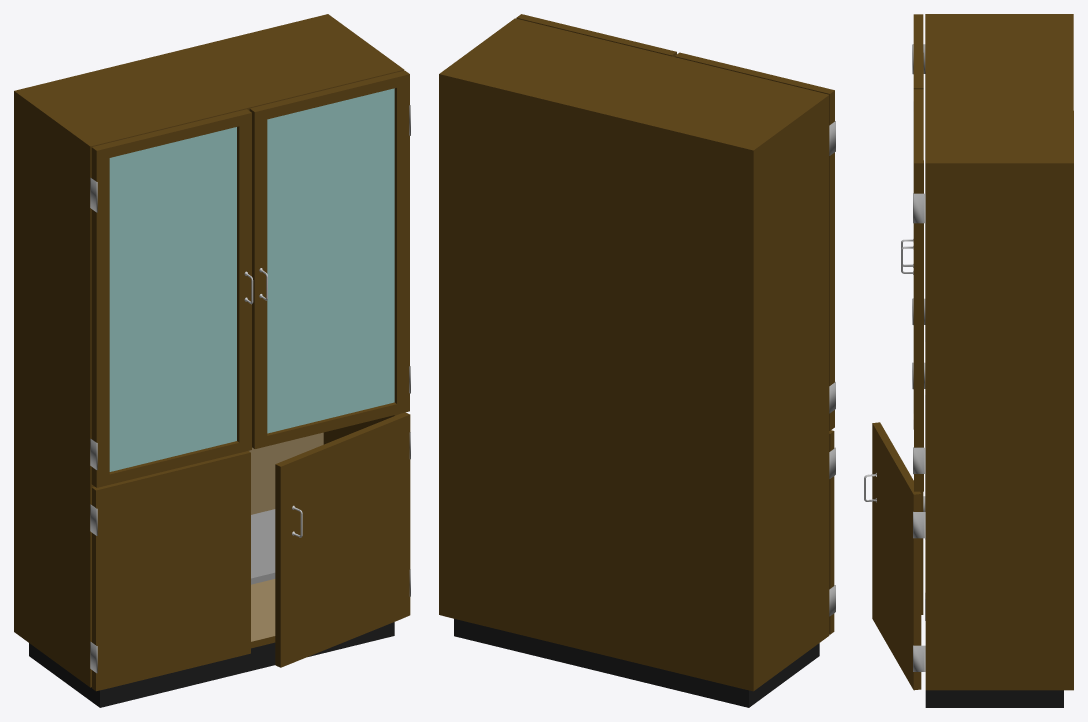
The model's file is cabinet.obj.
3 renders of one model, left to right at view 1: azimuth 30°, elevation 25°; view 2: azimuth 150°, elevation 25°; view 3: azimuth 270°, elevation 25°, orthographic. The views are drawn at different scales.
Parts seen in each view (by area): view 1: bokhylla_Plane.004; view 2: bokhylla_Plane.004; view 3: bokhylla_Plane.004.
Part boxes in pixels (x1=…): bokhylla_Plane.004: x1=14, y1=14, x2=410, y2=707; bokhylla_Plane.004: x1=439, y1=14, x2=835, y2=707; bokhylla_Plane.004: x1=864, y1=14, x2=1073, y2=707.
Size of the model in its own units: 2578 by 4413 by 1529.
